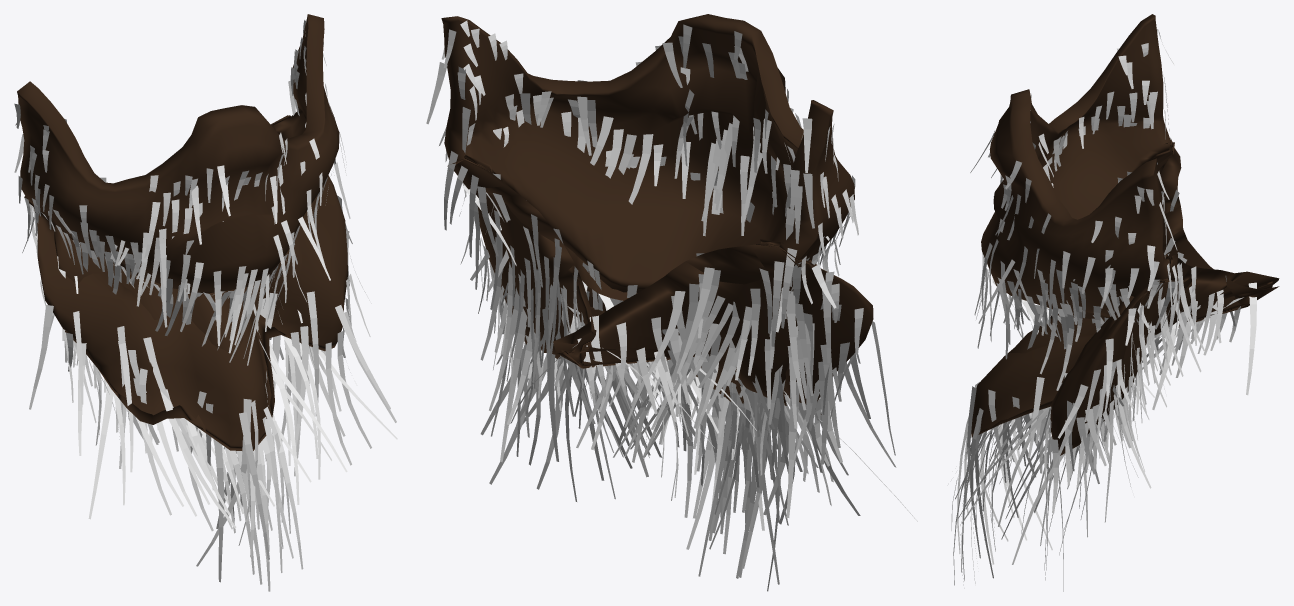
Rendered from beard-runekeeper-short.glb.
The picture shows the model from 3 angles, left to right: view 1: azimuth 30°, elevation 25°; view 2: azimuth 150°, elevation 25°; view 3: azimuth 270°, elevation 25°; orthographic projection. The views are drawn at different scales.
Visible parts, largest first — view 1: beard-runekeeper-short_1, beard__strands; view 2: beard-runekeeper-short_1, beard__strands; view 3: beard-runekeeper-short_1, beard__strands.
Part boxes in pixels (x1,y1,x2,y2): beard-runekeeper-short_1: (17,14,347,450); beard__strands: (14,20,397,591); beard-runekeeper-short_1: (441,14,873,414); beard__strands: (426,20,917,591); beard-runekeeper-short_1: (971,14,1279,455); beard__strands: (951,29,1256,591).
Bounding box in the file's own units: 0.1709 × 0.2251 × 0.1357.
